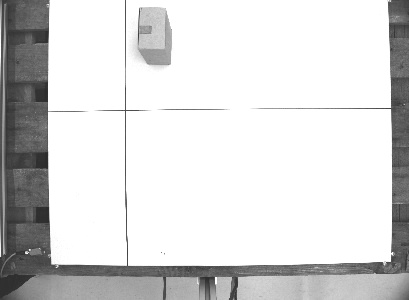b6: (133, 4, 174, 66)
